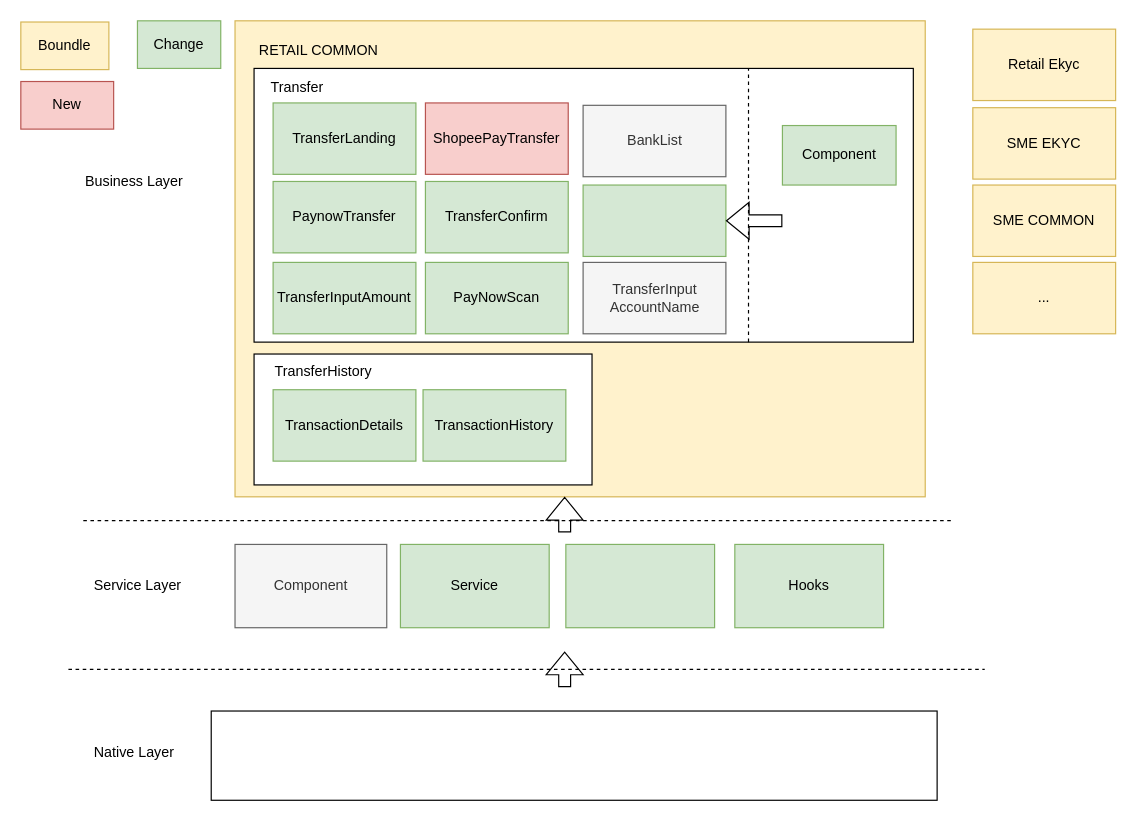
Image size: 1136x821. Some labels were removed from this diagram. Here are the shapes that lost their labels. From the top down, the centre of each, then its label:
At point (654, 220): "TransferResult".
At point (640, 585): "utils".
At point (573, 755): "Native".
